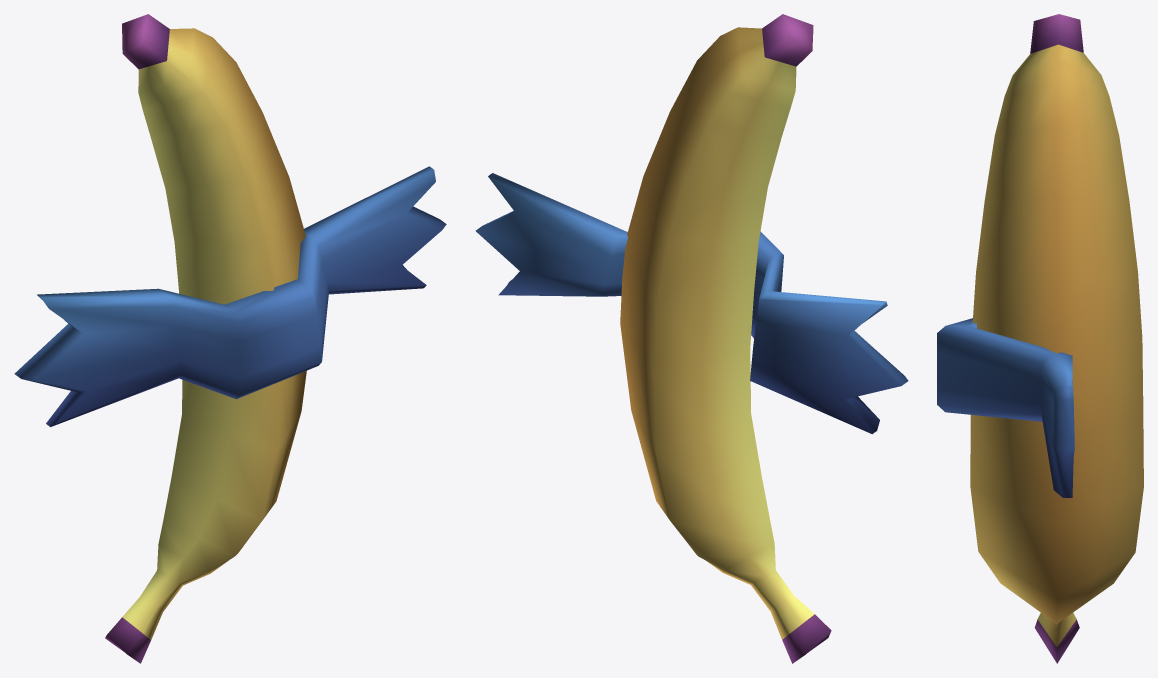
Rendered from Banana.fbx.
3 renders of one model, left to right at view 1: azimuth 30°, elevation 25°; view 2: azimuth 150°, elevation 25°; view 3: azimuth 270°, elevation 25°, orthographic.
Visible parts, largest first — view 1: Banana; view 2: Banana; view 3: Banana.
Part boxes in pixels (x1=…): Banana: x1=14, y1=14, x2=446, y2=663; Banana: x1=475, y1=14, x2=908, y2=663; Banana: x1=937, y1=14, x2=1143, y2=663.
Size of the model in its own units: 419 by 609 by 174.
